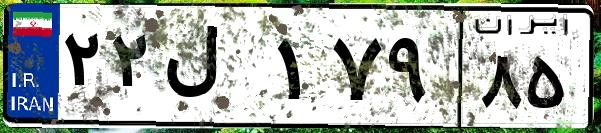1: (270, 28, 330, 110)
2: (57, 26, 110, 100), (110, 28, 158, 98)
5: (525, 38, 570, 115)
7: (330, 28, 385, 110)
8: (475, 38, 525, 113)
9: (385, 28, 445, 110)
ل: (158, 20, 270, 120)
